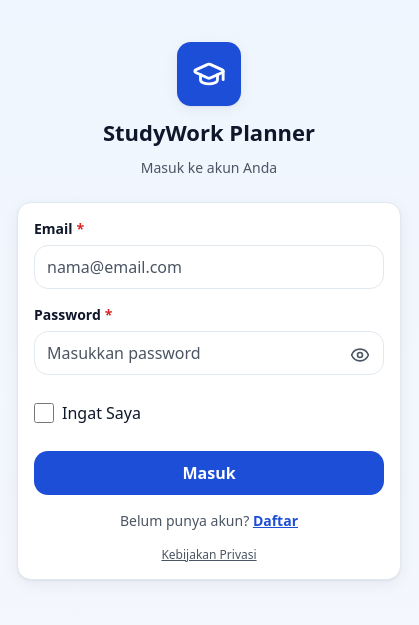
Test: LoginPage › menolak submit kosong dengan pesan validasi per field
Step 1. Click the button "Masuk" → (209, 473), box x1=34 y1=451 x2=384 y2=495
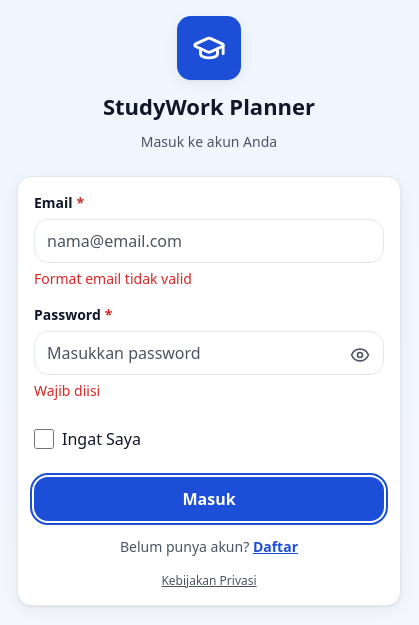
Expected: the messages read "Format email tidak valid", "Wajib diisi", in this order, x1=34 y1=269 x2=192 y2=288; x1=34 y1=381 x2=100 y2=400
